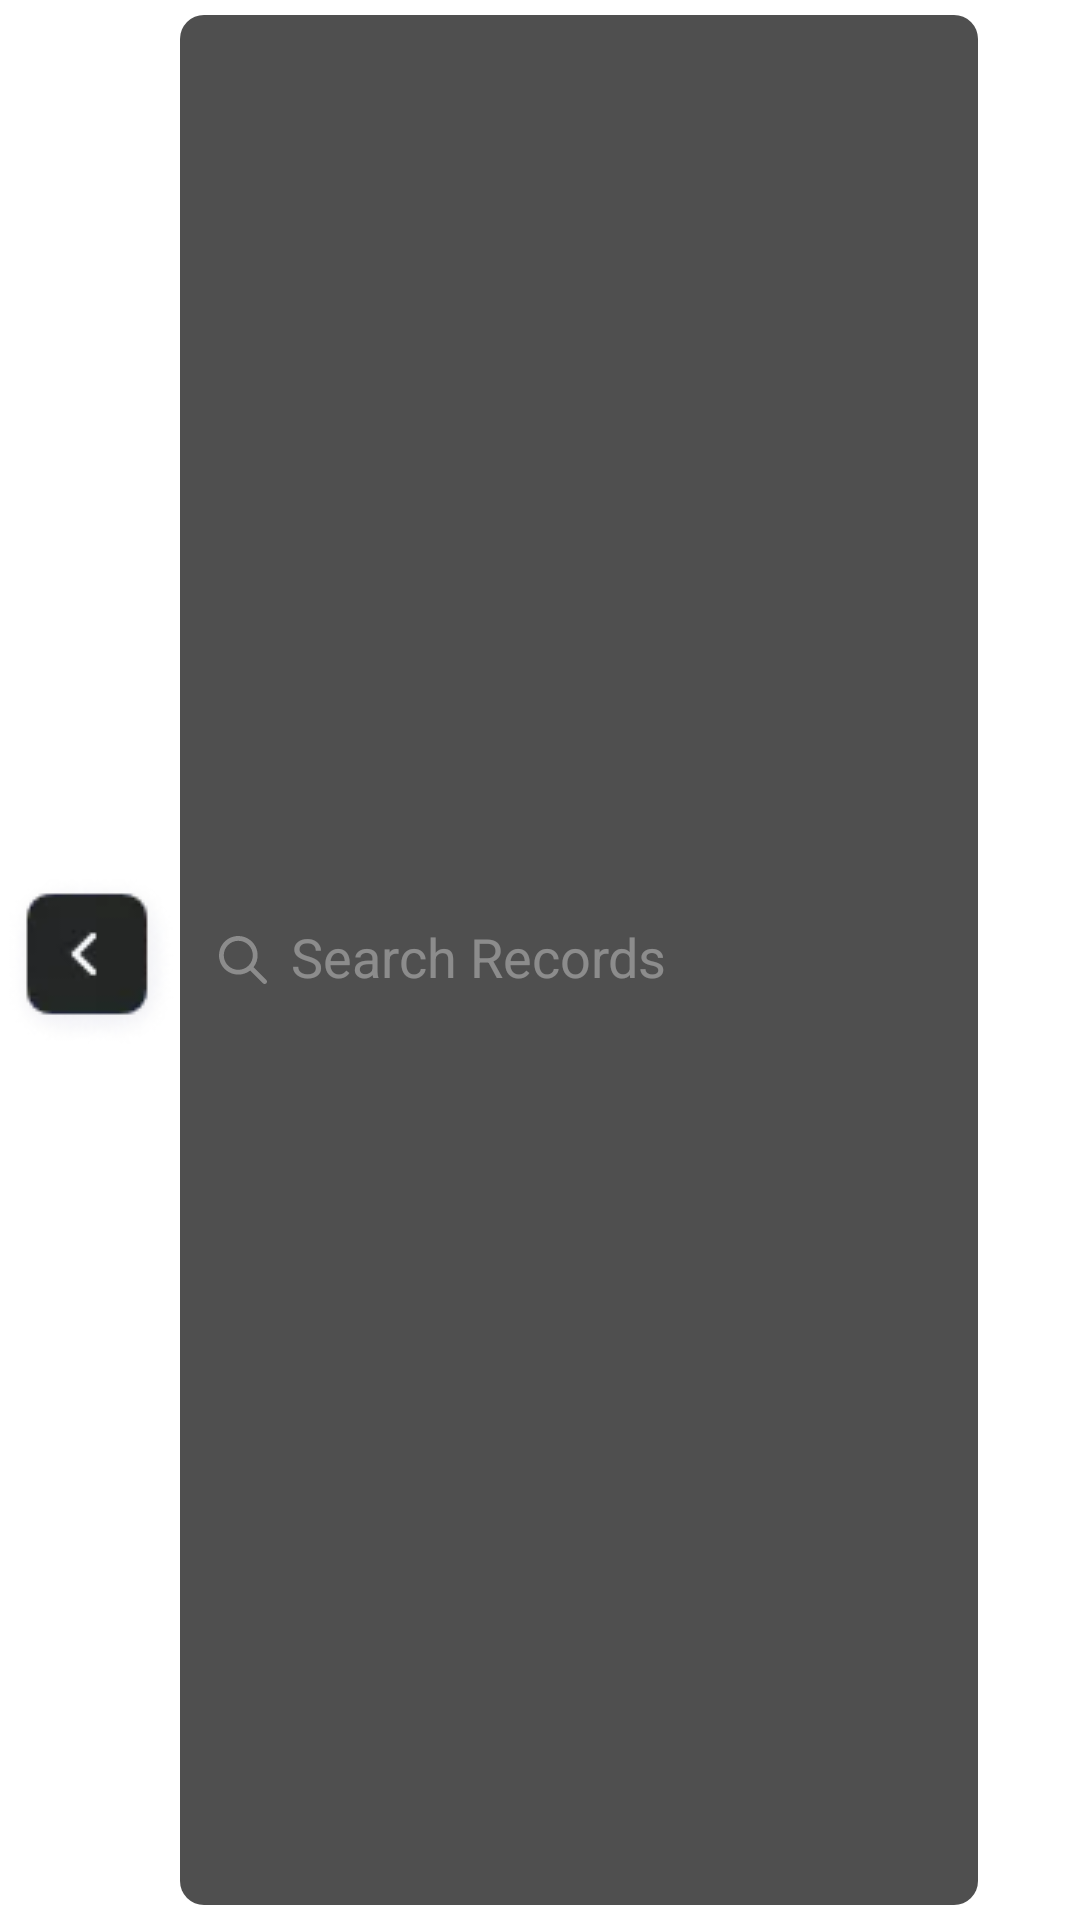

Named icons in this screenshot (1080 x 1920) and their centers, [x,y]:
back: [87,954]
